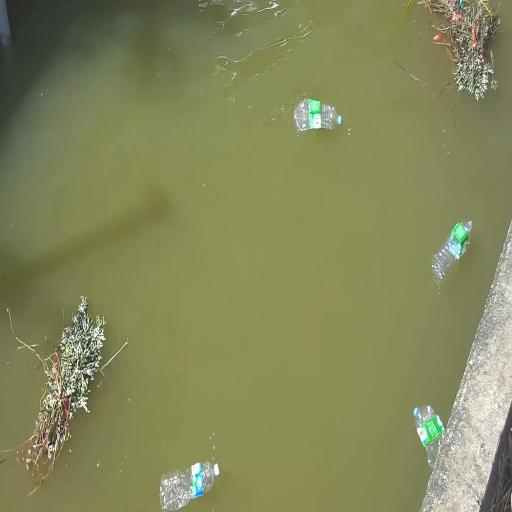plastic: (160, 462, 219, 511), (432, 221, 472, 282), (414, 406, 444, 470), (294, 99, 341, 131)
twig: (6, 296, 127, 488), (419, 0, 500, 101)
